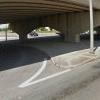Bridge: (2, 1, 93, 48)
